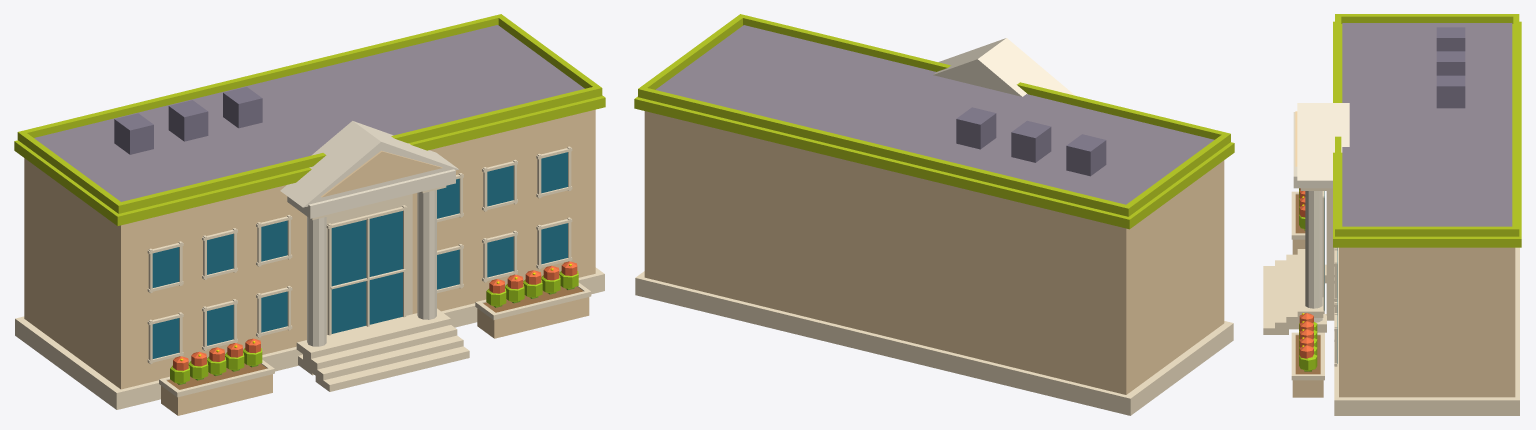
Rendered from Building_School_Civic.glb.
3 renders of one model, left to right at view 1: azimuth 30°, elevation 25°; view 2: azimuth 150°, elevation 25°; view 3: azimuth 270°, elevation 25°, orthographic. The views are drawn at different scales.
Visible parts, largest first — view 1: Building_School_Civic; view 2: Building_School_Civic; view 3: Building_School_Civic.
Part boxes in pixels (x1,y1,x2,y2): Building_School_Civic: (14, 14, 605, 415); Building_School_Civic: (634, 14, 1234, 415); Building_School_Civic: (1263, 14, 1521, 415).
Size of the model in its own units: 10.8 by 4.73 by 5.42.
